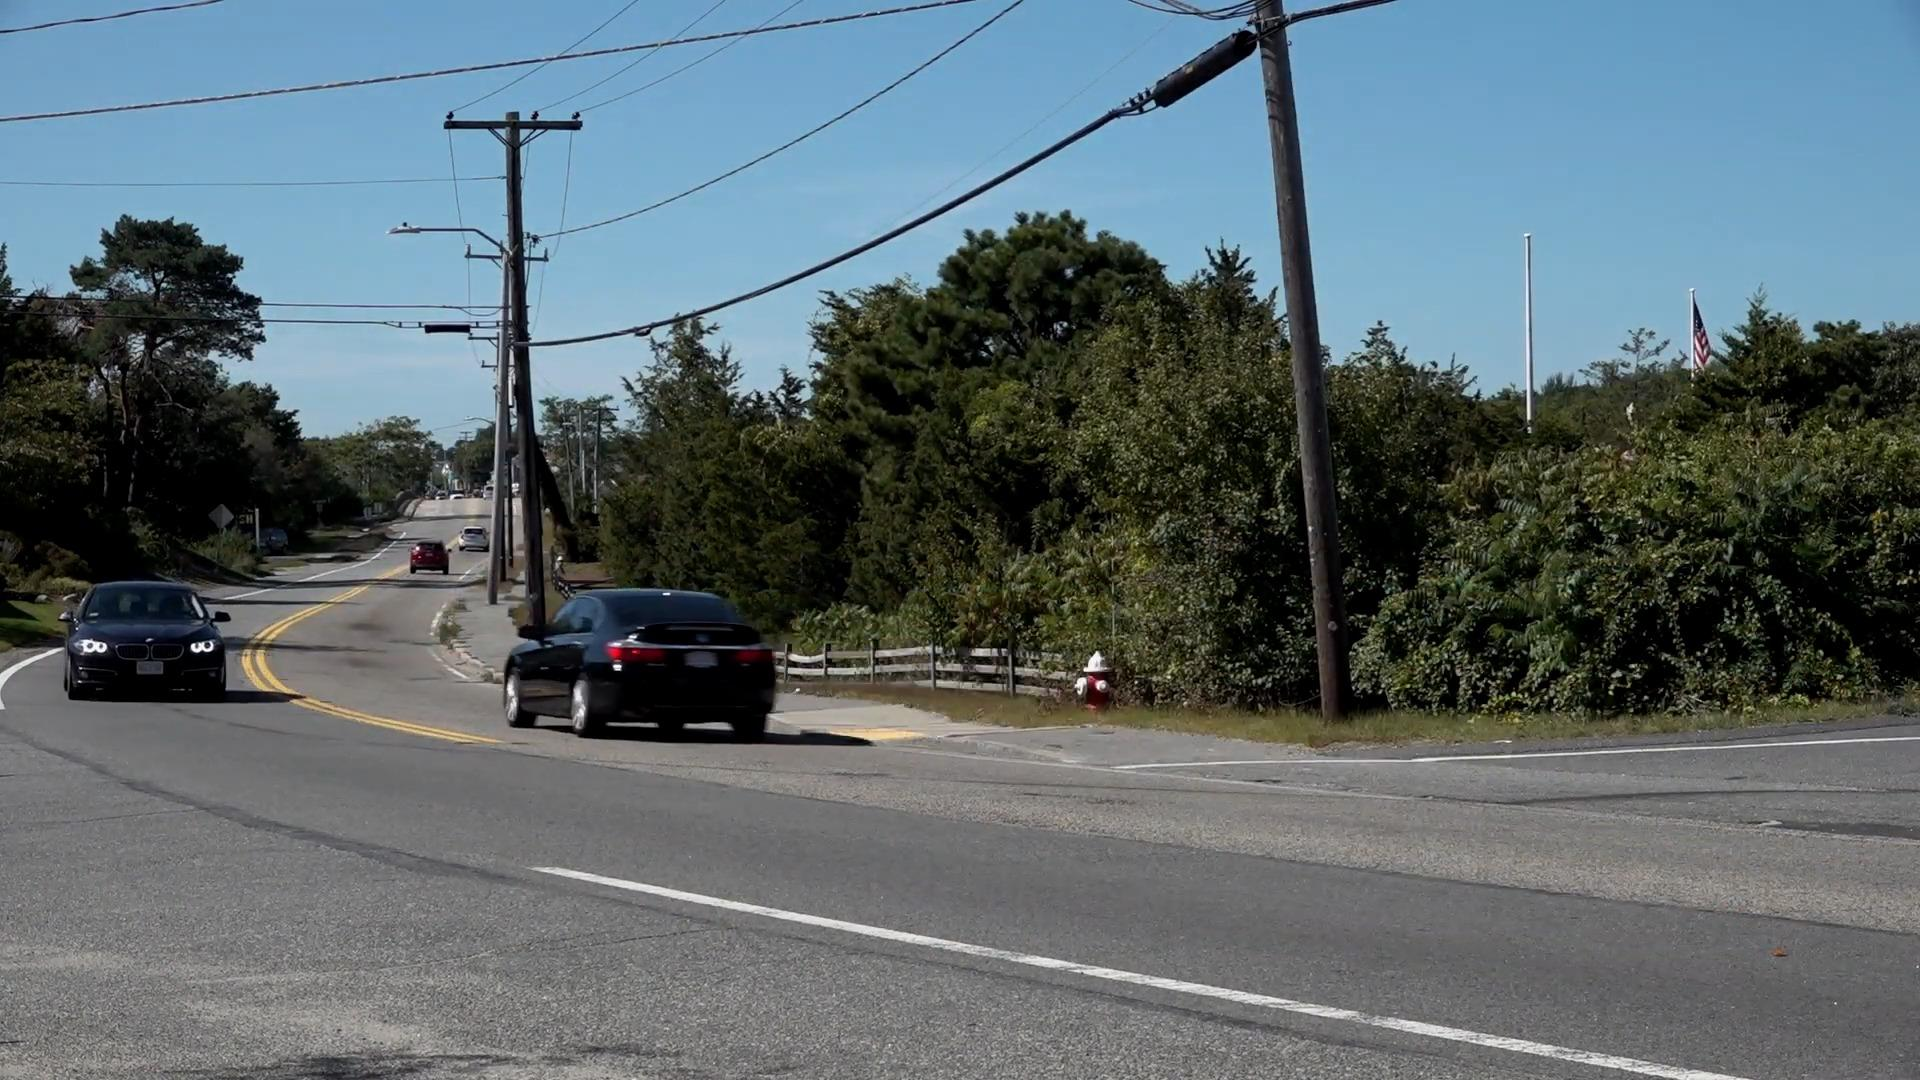sedans: (499, 589, 780, 734), (63, 583, 233, 696)
